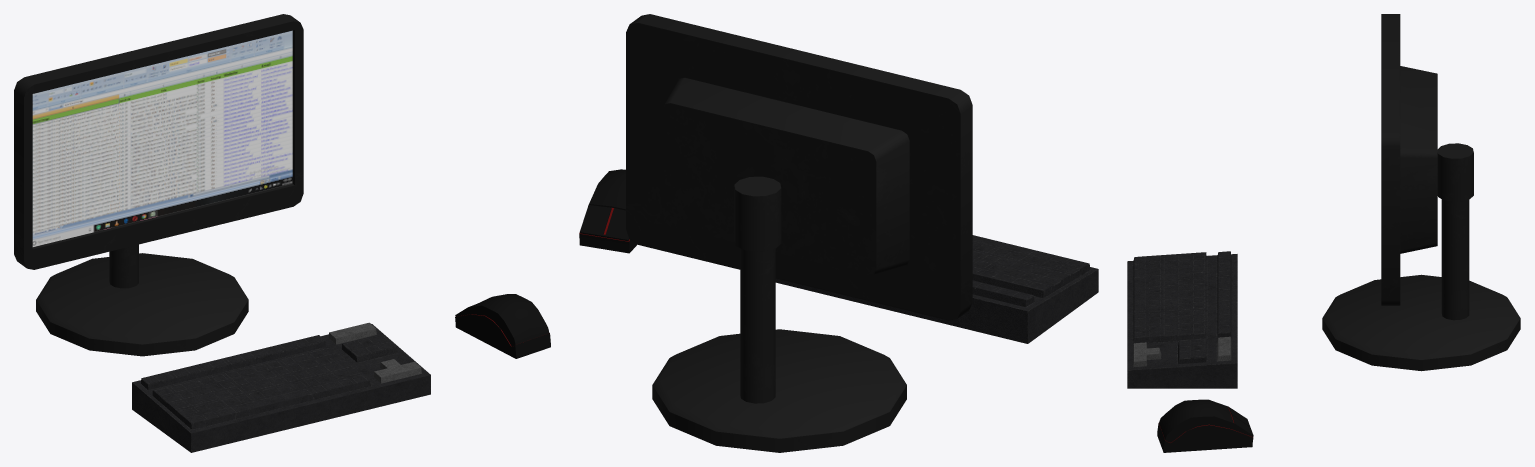
File: desktop_pc_-_low_poly__game_ready.glb
3 renders of one model, left to right at view 1: azimuth 30°, elevation 25°; view 2: azimuth 150°, elevation 25°; view 3: azimuth 270°, elevation 25°, orthographic. The views are drawn at different scales.
Visible parts, largest first — view 1: Cylinder.001, key_low, Cube; view 2: Cylinder.001, key_low, Cube; view 3: Cylinder.001, key_low, Cube.
Boxes of the visible parts, bbox=[...] form: Cylinder.001: bbox=[14, 14, 303, 356]; key_low: bbox=[132, 322, 430, 452]; Cube: bbox=[455, 294, 550, 358]; Cylinder.001: bbox=[626, 14, 972, 452]; key_low: bbox=[775, 235, 1098, 343]; Cube: bbox=[579, 169, 637, 253]; Cylinder.001: bbox=[1322, 14, 1520, 371]; key_low: bbox=[1127, 251, 1237, 388]; Cube: bbox=[1157, 399, 1253, 452].
Size of the model in its own units: 7.06 by 4.52 by 6.29.
Materials: 1 (1 with a texture image).
